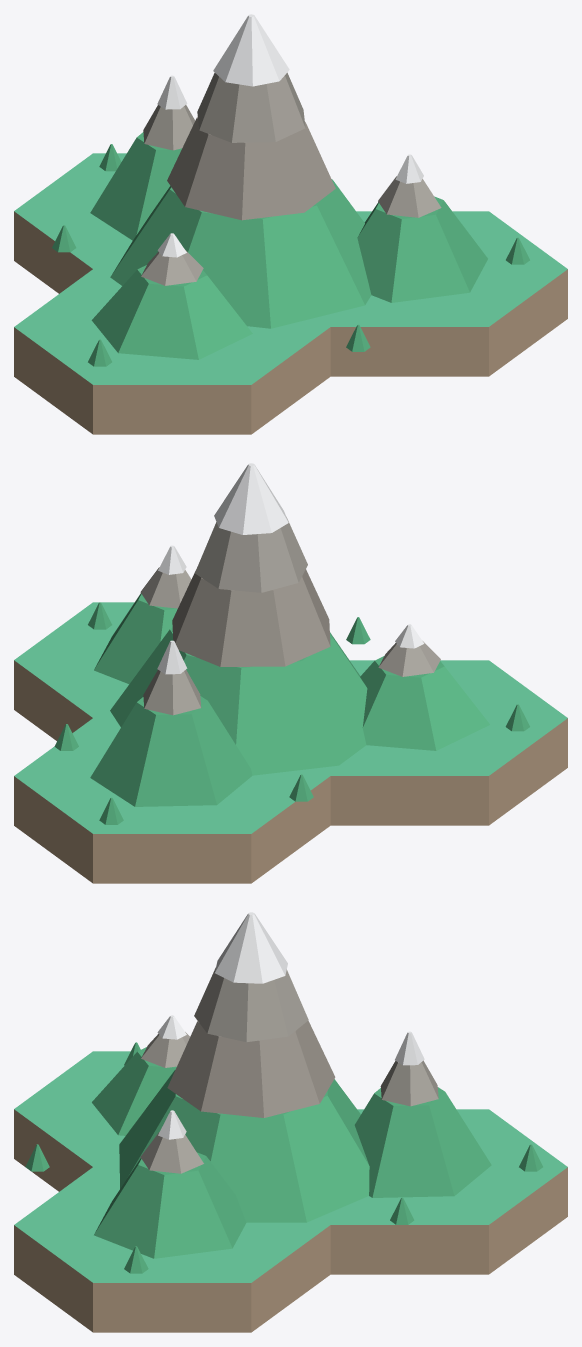
Rendered from mountain-large.glb.
The picture shows the model from 3 angles, top to bottom: view 1: azimuth 30°, elevation 25°; view 2: azimuth 150°, elevation 25°; view 3: azimuth 270°, elevation 25°; orthographic projection.
Parts seen in each view (by area): view 1: base2, base1, giant_slope, giant_cliff, flank2_slope, flank1_slope, base0, giant_rock, flank0_slope, giant_snow, flank0_rock, flank1_rock (+3 smaller); view 2: base0, base2, giant_slope, flank0_slope, giant_cliff, base1, flank2_slope, giant_rock, flank1_slope, giant_snow, flank0_rock, flank2_rock (+3 smaller); view 3: base1, base0, giant_slope, giant_cliff, flank1_slope, flank0_slope, base2, giant_rock, flank2_slope, giant_snow, flank0_rock, flank1_rock (+3 smaller).
Part boxes in pixels (x1,y1,x2,y2): base2: (14, 269, 330, 434); base1: (318, 211, 567, 376); giant_slope: (110, 179, 371, 328); giant_cliff: (167, 117, 335, 220); flank2_slope: (91, 265, 252, 359); flank1_slope: (357, 196, 487, 302); base0: (14, 153, 132, 293); giant_rock: (197, 72, 305, 142); flank0_slope: (90, 132, 181, 240); giant_snow: (213, 14, 289, 86); flank0_rock: (143, 105, 195, 150); flank1_rock: (378, 176, 441, 217); base0: (14, 718, 330, 883); base2: (320, 660, 567, 825); giant_slope: (110, 627, 367, 775); flank0_slope: (90, 696, 252, 806); giant_cliff: (172, 569, 330, 666); base1: (14, 602, 134, 740); flank2_slope: (360, 656, 489, 750); giant_rock: (195, 517, 307, 592); flank1_slope: (94, 593, 177, 683); giant_snow: (214, 463, 288, 534); flank0_rock: (143, 670, 201, 715); flank2_rock: (378, 641, 440, 676); base1: (14, 1167, 330, 1332); base0: (320, 1109, 567, 1274); giant_slope: (119, 1069, 369, 1222); giant_cliff: (167, 1020, 335, 1117); flank1_slope: (94, 1152, 246, 1258); flank0_slope: (354, 1087, 491, 1197); base2: (14, 1051, 130, 1191); giant_rock: (194, 967, 308, 1042); flank2_slope: (92, 1047, 176, 1135); giant_snow: (215, 912, 287, 983); flank0_rock: (380, 1060, 438, 1106); flank1_rock: (140, 1132, 203, 1173).
Size of the model in its own units: 2 by 1.22 by 2.02.
